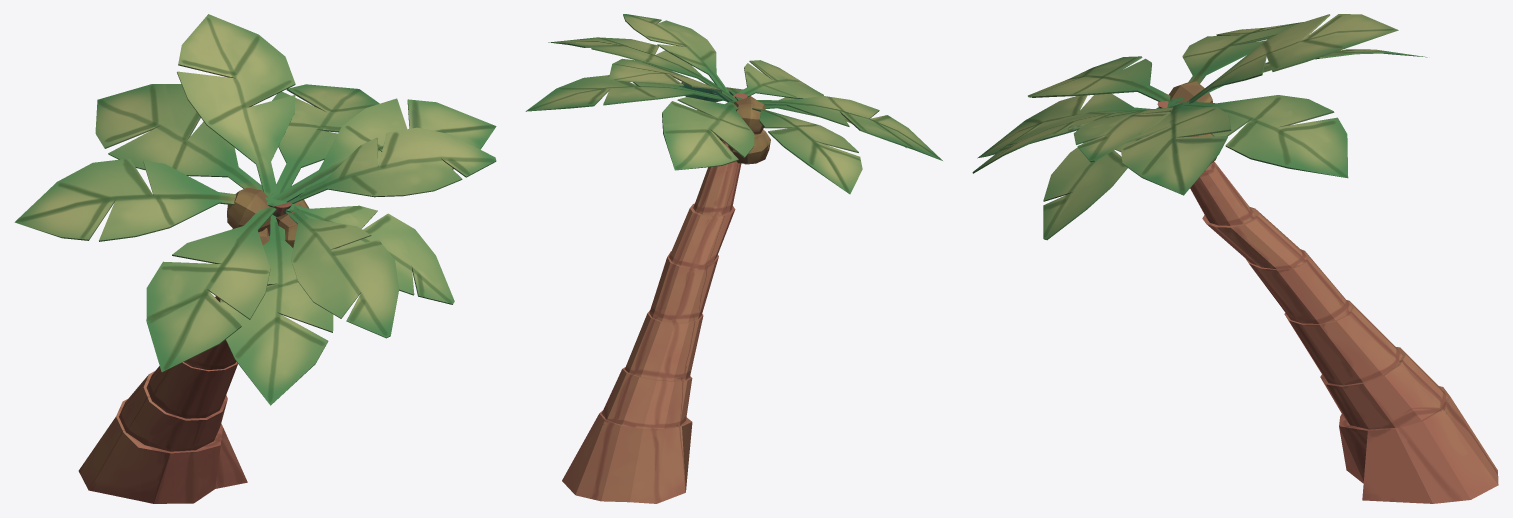
Rendered from Tree2.fbx.
The picture shows the model from 3 angles, left to right: view 1: azimuth 30°, elevation 25°; view 2: azimuth 150°, elevation 25°; view 3: azimuth 270°, elevation 25°; orthographic projection. The views are drawn at different scales.
Parts seen in each view (by area): view 1: Tree_2_copy_Tree2; view 2: Tree_2_copy_Tree2; view 3: Tree_2_copy_Tree2.
Part boxes in pixels (x1=…): Tree_2_copy_Tree2: x1=14, y1=14, x2=496, y2=503; Tree_2_copy_Tree2: x1=525, y1=14, x2=942, y2=503; Tree_2_copy_Tree2: x1=972, y1=14, x2=1498, y2=503.
Bounding box in the file's own units: 7.42 × 7.79 × 8.
